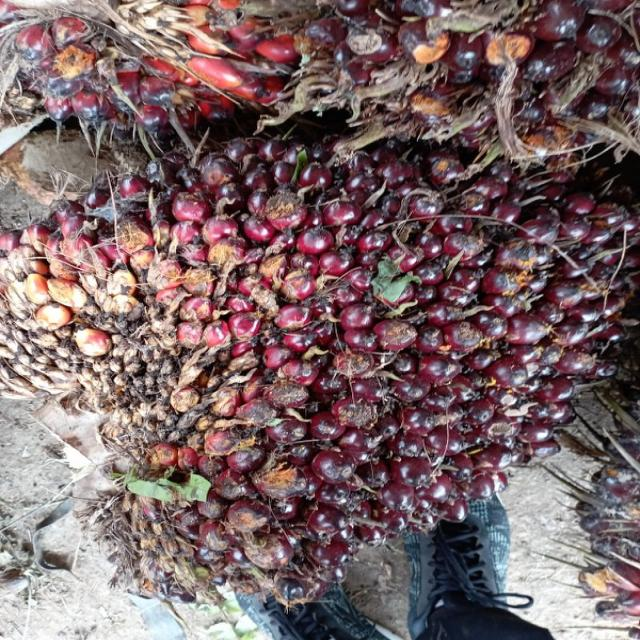fraksi 1: (0, 122, 640, 606)
